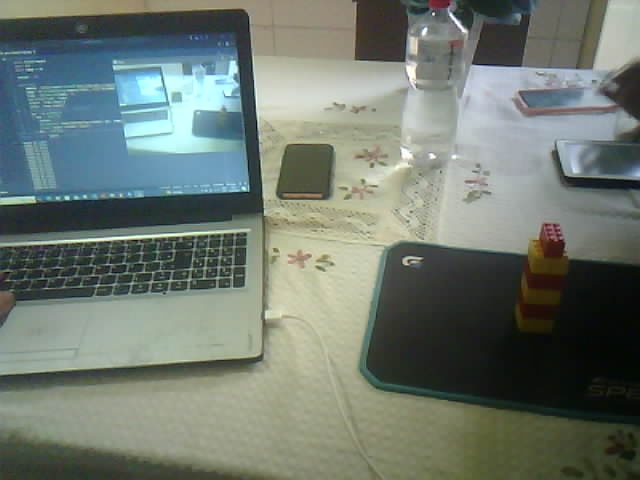lego: (515, 222, 569, 334)
